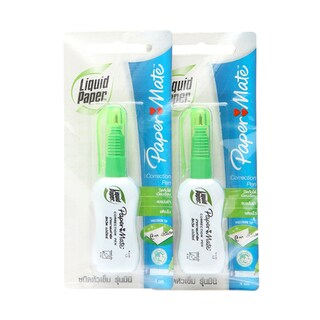Correction_fluid: (89, 99, 143, 275), (175, 103, 228, 278)
